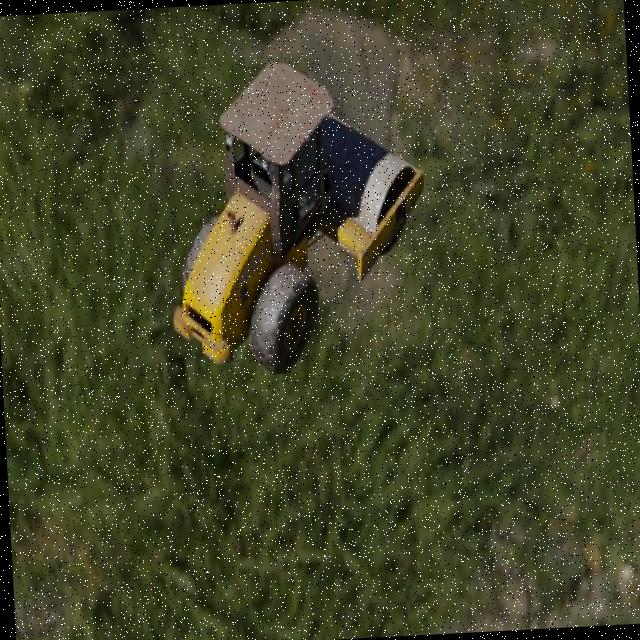Roller: (158, 53, 434, 380)
